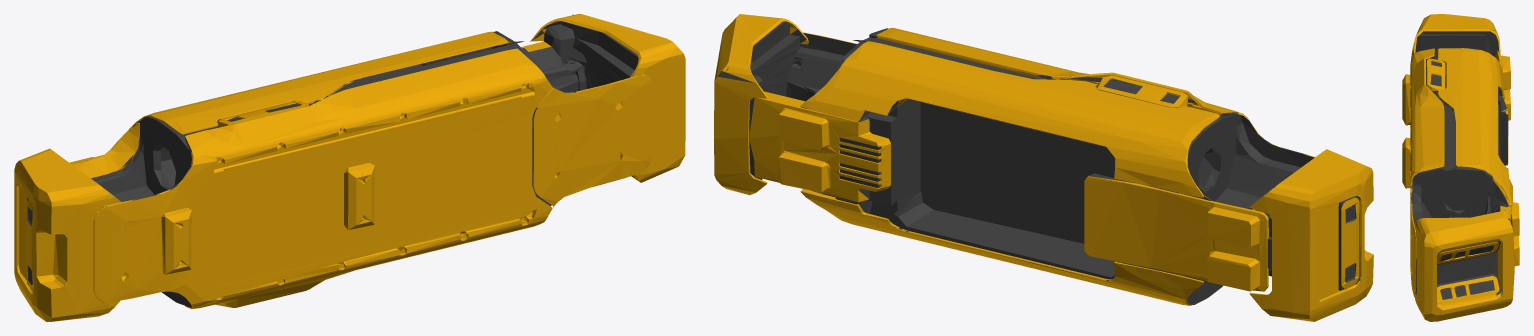
File: body_compressed.dae
The picture shows the model from 3 angles, left to right: view 1: azimuth 30°, elevation 25°; view 2: azimuth 150°, elevation 25°; view 3: azimuth 270°, elevation 25°; orthographic projection. The views are drawn at different scales.
Parts seen in each view (by area): view 1: node; view 2: node; view 3: node.
Boxes of the visible parts, <box> form: node: <box>14,14,685,321</box>; node: <box>714,14,1373,321</box>; node: <box>1402,14,1519,321</box>.
Size of the model in its own units: 0.8724 by 0.2391 by 0.1945.
Materials: 1 (1 with a texture image).
